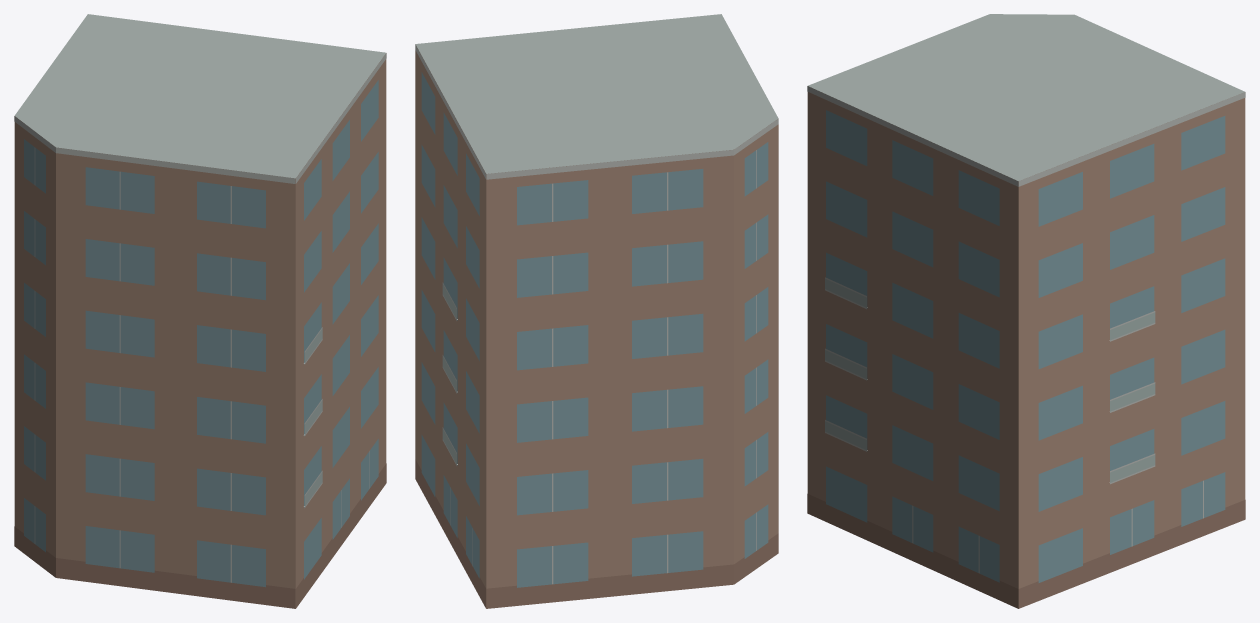
File: survey-upis-32841544.glb
3 renders of one model, left to right at view 1: azimuth 30°, elevation 25°; view 2: azimuth 150°, elevation 25°; view 3: azimuth 270°, elevation 25°, orthographic.
Visible parts, largest first — view 1: survey-upis-32841544.tmp; view 2: survey-upis-32841544.tmp; view 3: survey-upis-32841544.tmp.
Boxes of the visible parts, bbox=[...] form: survey-upis-32841544.tmp: bbox=[14, 14, 386, 608]; survey-upis-32841544.tmp: bbox=[415, 14, 778, 608]; survey-upis-32841544.tmp: bbox=[807, 14, 1245, 608].
Size of the model in its own units: 15.36 by 18.3 by 16.99.
